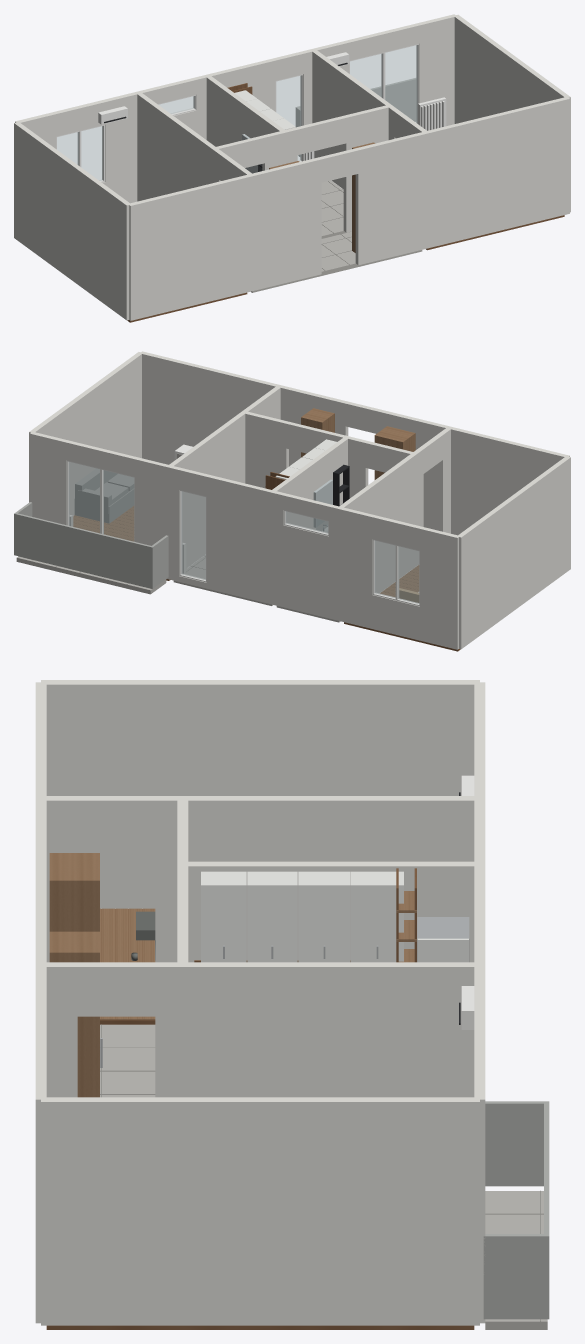
Rendered from radnoti54-v10-7335e6f7.glb.
The picture shows the model from 3 angles, top to bottom: view 1: azimuth 30°, elevation 25°; view 2: azimuth 150°, elevation 25°; view 3: azimuth 270°, elevation 25°; orthographic projection. The views are drawn at different scales.
Visible parts, largest first — view 1: Homlokzat bejárat jobb, Homlokzat bejárat bal, Külső bal, Külső jobb, Bal szoba választó hátul, Erkélyes szoba választó hátul, Erkélyes hátsó jobb, Hátsó bal b, Erkélyes nagy ajtóablak üveg, Fürdő konyha közfal, Konyha határ jobb, Konyha hátsó a (+21 smaller); view 2: Külső bal, Homlokzat bejárat jobb, Homlokzat bejárat bal, Konyha hátsó a, Külső jobb, Erkély korlát, Bal szoba választó hátul, Erkélyes szoba választó hátul, Hátsó bal a, Hátsó bal b, Erkélyes nagy ajtóablak üveg, Fürdő ablak alatti (+31 smaller); view 3: Külső jobb, Külső bal, Erkélyes szoba választó hátul, Bal szoba választó hátul, Fürdő konyha közfal, Erkély jobb perem, Erkély bal perem, Konyha felső 2, Konyha felső 1, Konyha felső 3, Erkélyes szoba választó eleje, Erkélyes ajtó áthidaló (+17 smaller).
Part boxes in pixels (bbox=[...]): Homlokzat bejárat jobb: bbox=[355, 97, 569, 265]; Homlokzat bejárat bal: bbox=[128, 157, 321, 320]; Külső bal: bbox=[14, 122, 129, 320]; Külső jobb: bbox=[454, 14, 570, 212]; Bal szoba választó hátul: bbox=[137, 93, 223, 201]; Erkélyes szoba választó hátul: bbox=[311, 50, 398, 188]; Erkélyes hátsó jobb: bbox=[417, 14, 456, 125]; Hátsó bal b: bbox=[103, 91, 141, 203]; Erkélyes nagy ajtóablak üveg: bbox=[350, 45, 417, 123]; Fürdő konyha közfal: bbox=[206, 76, 284, 146]; Konyha határ jobb: bbox=[343, 105, 390, 232]; Konyha hátsó a: bbox=[206, 58, 275, 111]; Külső bal: bbox=[458, 456, 570, 649]; Homlokzat bejárat jobb: bbox=[140, 351, 348, 466]; Homlokzat bejárat bal: bbox=[381, 410, 569, 535]; Konyha hátsó a: bbox=[206, 475, 272, 604]; Külső jobb: bbox=[29, 352, 141, 515]; Erkély korlát: bbox=[14, 513, 153, 588]; Bal szoba választó hátul: bbox=[338, 448, 423, 592]; Erkélyes szoba választó hátul: bbox=[168, 406, 253, 568]; Hátsó bal a: bbox=[420, 527, 459, 649]; Hátsó bal b: bbox=[336, 507, 374, 628]; Erkélyes nagy ajtóablak üveg: bbox=[68, 462, 134, 541]; Fürdő ablak alatti: bbox=[283, 525, 328, 618]; Külső jobb: bbox=[41, 1097, 479, 1325]; Külső bal: bbox=[41, 680, 479, 908]; Erkélyes szoba választó hátul: bbox=[155, 962, 474, 1097]; Bal szoba választó hátul: bbox=[155, 796, 479, 962]; Fürdő konyha közfal: bbox=[183, 861, 479, 962]; Erkély jobb perem: bbox=[483, 1234, 547, 1319]; Erkély bal perem: bbox=[485, 1101, 547, 1186]; Konyha felső 2: bbox=[298, 871, 350, 962]; Konyha felső 1: bbox=[247, 871, 297, 962]; Konyha felső 3: bbox=[351, 871, 403, 962]; Erkélyes szoba választó eleje: bbox=[43, 962, 77, 1097]; Erkélyes ajtó áthidaló: bbox=[77, 962, 155, 1016].
Size of the model in its own units: 10.92 by 2.81 by 5.62.
25 materials, 10 textured.
